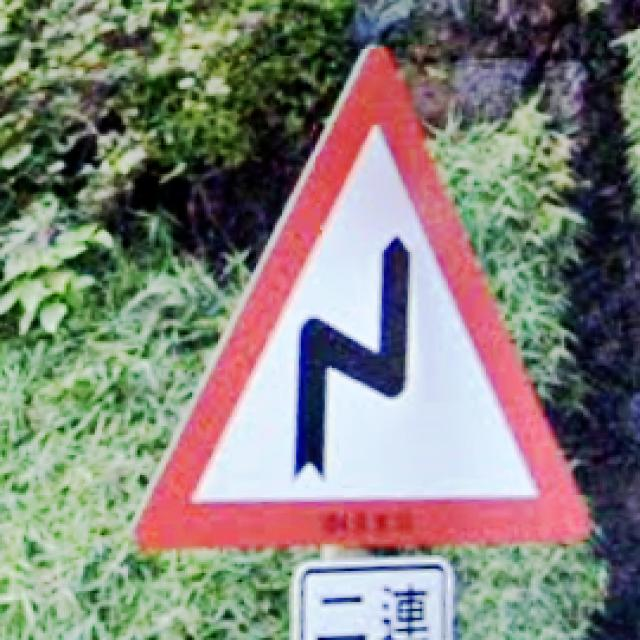doublebendright: (130, 47, 593, 555)
